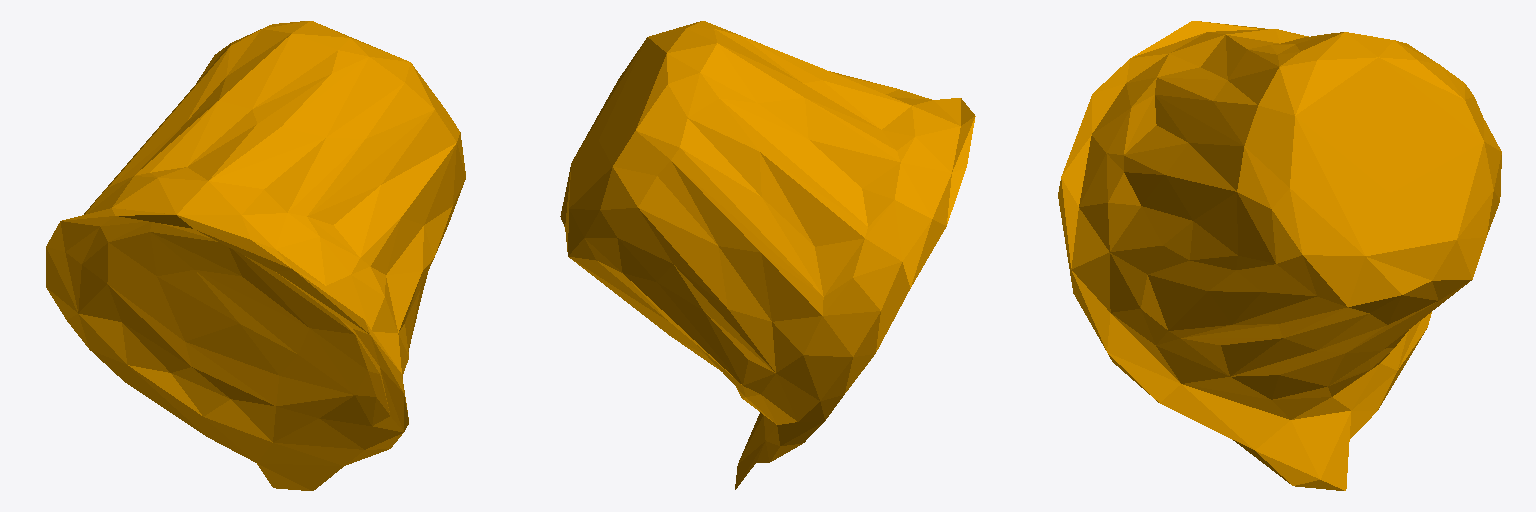
URDF robot description (ChocoIcing_800_tex):
<?xml version="1.0"?>
<robot name="ChocoIcing_800_tex">
  <link name="base_link">
    <contact>
      <lateral_friction value="1.0"/>
      <rolling_friction value="0.0"/>
      <contact_cfm value="0.0"/>
      <contact_erp value="1.0"/>
    </contact>
    <inertial>
      <mass value="0.0163393108044"/>
      <inertia ixx="1" ixy="0" ixz="0" iyy="1" iyz="0" izz="1"/>
    </inertial>
    <visual>
      <geometry>
        <mesh filename="ChocoIcing_800_tex_visual.obj"/>
      </geometry>
    </visual>
    <collision>
      <geometry>
        <mesh filename="ChocoIcing_800_tex_collision.obj"/>
      </geometry>
    </collision>
  </link>
</robot>

--- What the picture shows (computed from the rendered views, not written in the file) ---
The picture shows the robot from 3 angles, left to right: view 1: azimuth 30°, elevation 25°; view 2: azimuth 150°, elevation 25°; view 3: azimuth 270°, elevation 25°; orthographic projection.
Model ChocoIcing_800_tex with 1 links and 0 joints (none), rooted at base_link, posed every joint at zero.
Visible links, largest first — view 1: base_link; view 2: base_link; view 3: base_link.
Link boxes in pixels (x1=…): base_link: x1=46, y1=21, x2=465, y2=490; base_link: x1=560, y1=21, x2=975, y2=489; base_link: x1=1058, y1=21, x2=1501, y2=490.
Size in the robot's own frame: 0.0448 by 0.0434 by 0.0506 metres.
1 mesh visuals loaded from 1 distinct referenced files (1 OBJ).